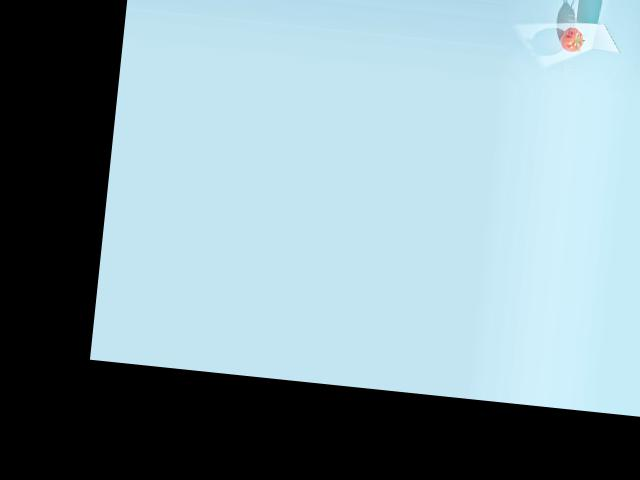tomato: (559, 25, 584, 52)
